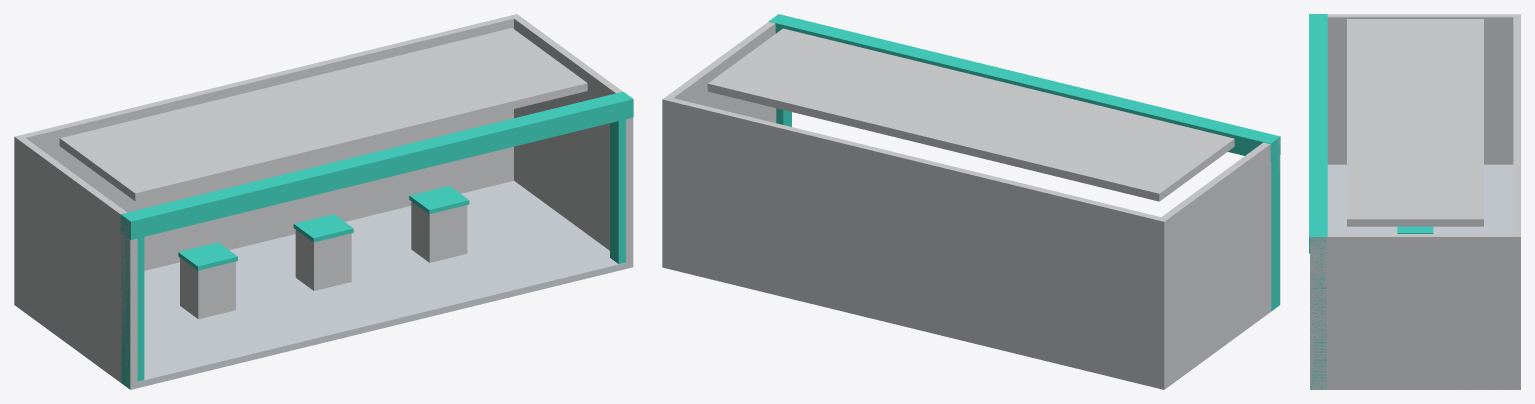
The picture shows the model from 3 angles, left to right: view 1: azimuth 30°, elevation 25°; view 2: azimuth 150°, elevation 25°; view 3: azimuth 270°, elevation 25°; orthographic projection. The views are drawn at different scales.
Visible parts, largest first — view 1: Exhibition Booth Concept; view 2: Exhibition Booth Concept; view 3: Exhibition Booth Concept.
Part boxes in pixels (<box>): Exhibition Booth Concept: <box>14,14,633,389</box>; Exhibition Booth Concept: <box>662,14,1280,389</box>; Exhibition Booth Concept: <box>1309,14,1520,389</box>.
Size of the model in its own units: 10 by 3.34 by 4.02.
